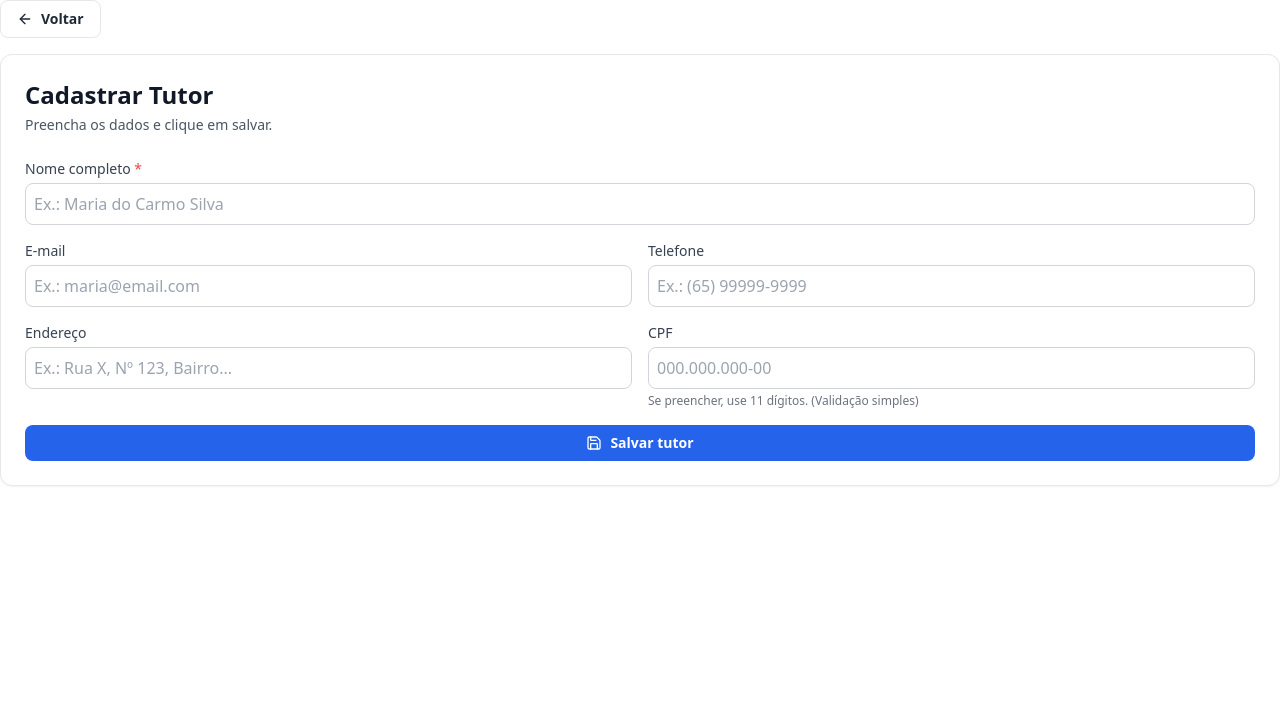
TutorCreate › mostra erro quando email é inválido
The width and height of the screenshot is (1280, 720).
Type "Maria Silva" into the field with placeholder "Ex.: Maria do Carmo Silva" at (640, 204), box left=25, top=183, right=1255, bottom=225
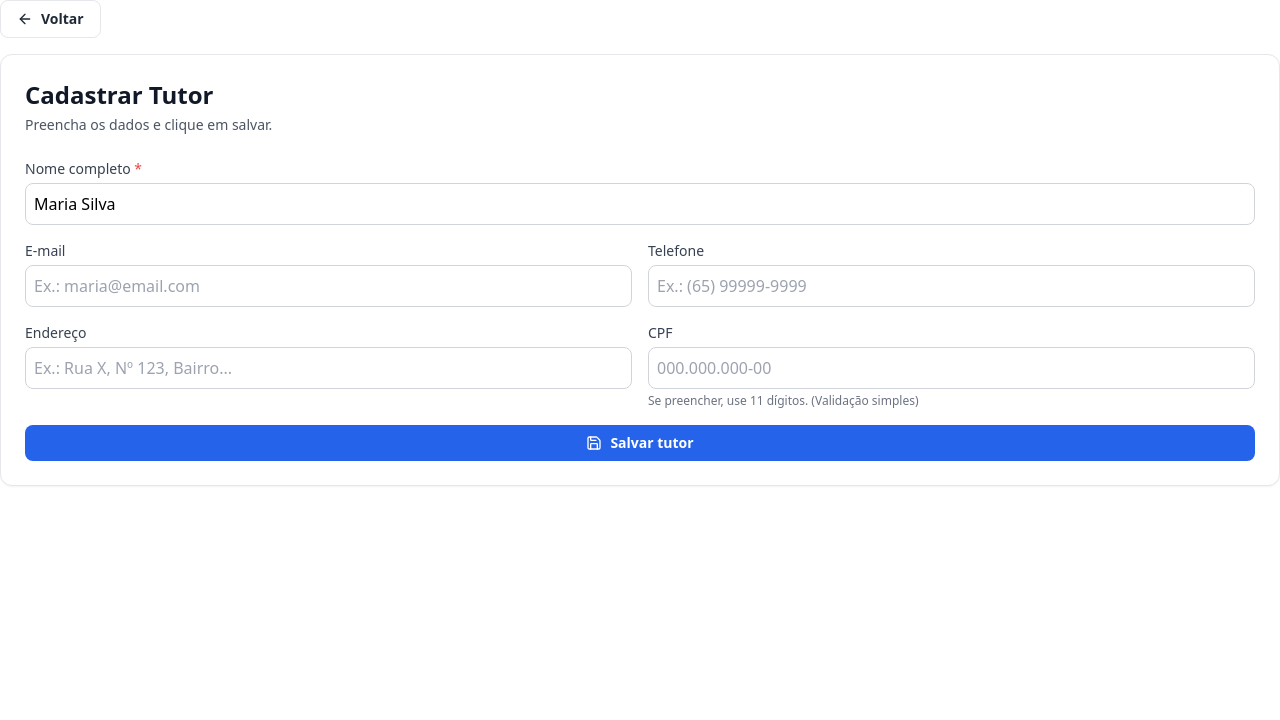
Type "email-invalido" into the field with placeholder "Ex.: maria@email.com" at (328, 286), box left=25, top=265, right=632, bottom=307
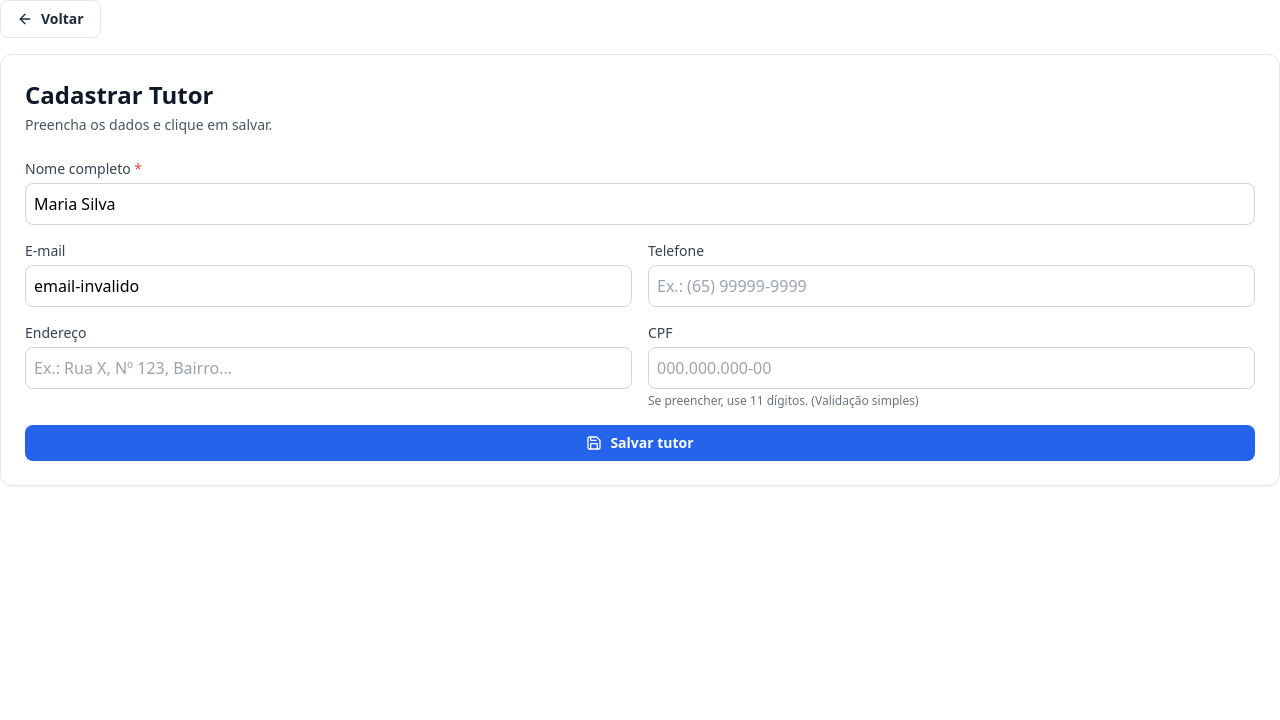
Click the button "Salvar tutor" at (640, 443), box left=25, top=425, right=1255, bottom=461
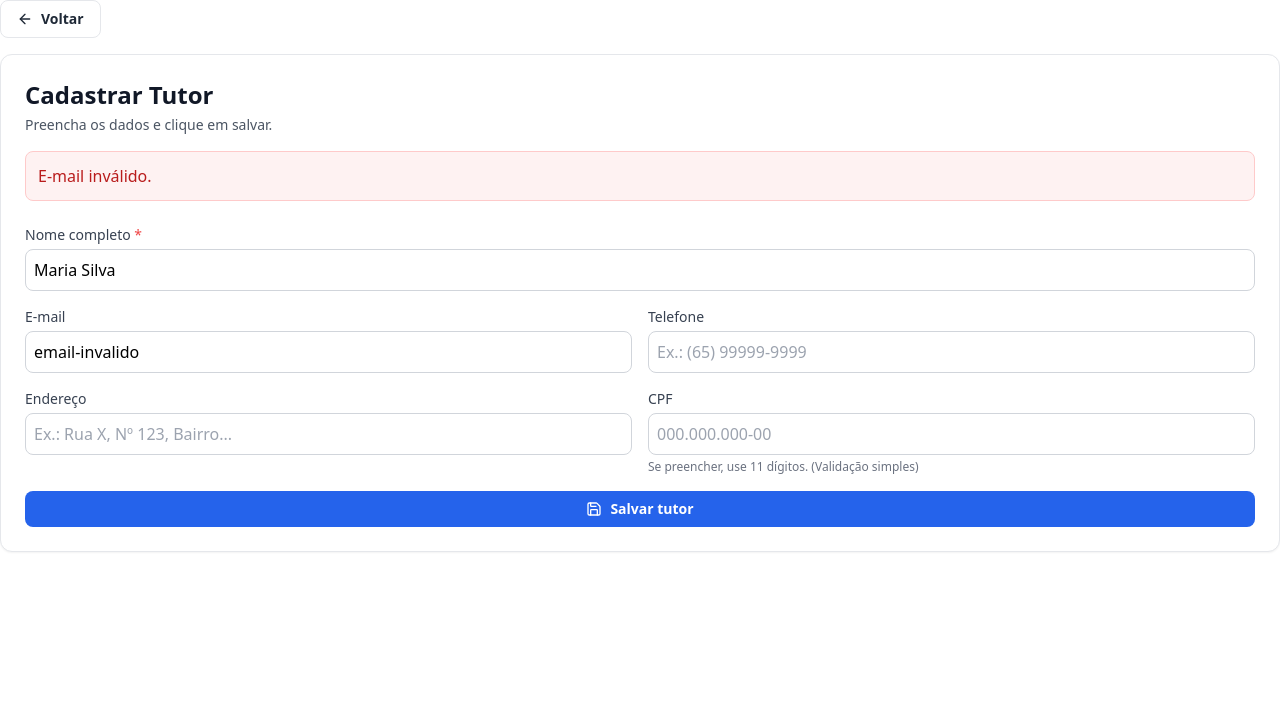
Expected: the text "E-mail inválido." is shown, left=25, top=151, right=1255, bottom=201
